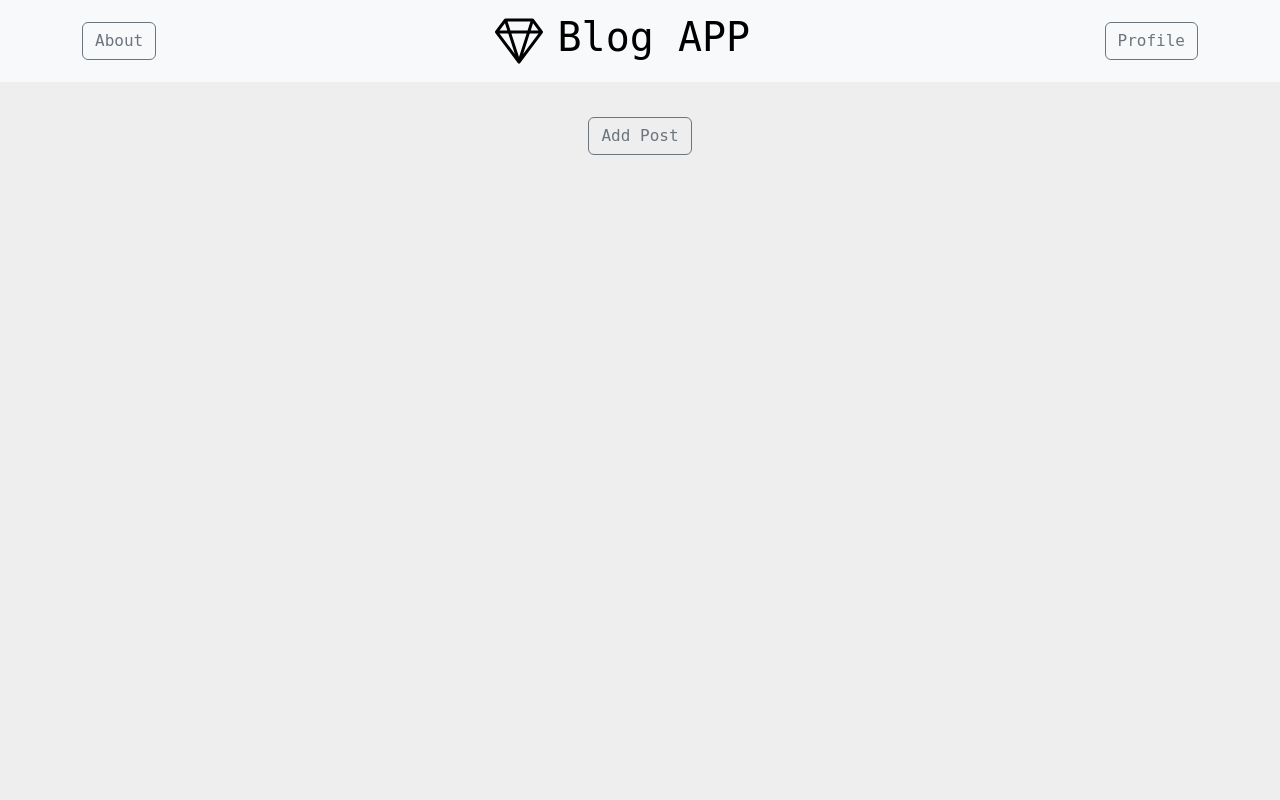
Test: AddPostModal Component Tests › should open the modal to add a post
Click the button with class "add-btn".
click(641, 136)  # box [589, 117, 692, 155]
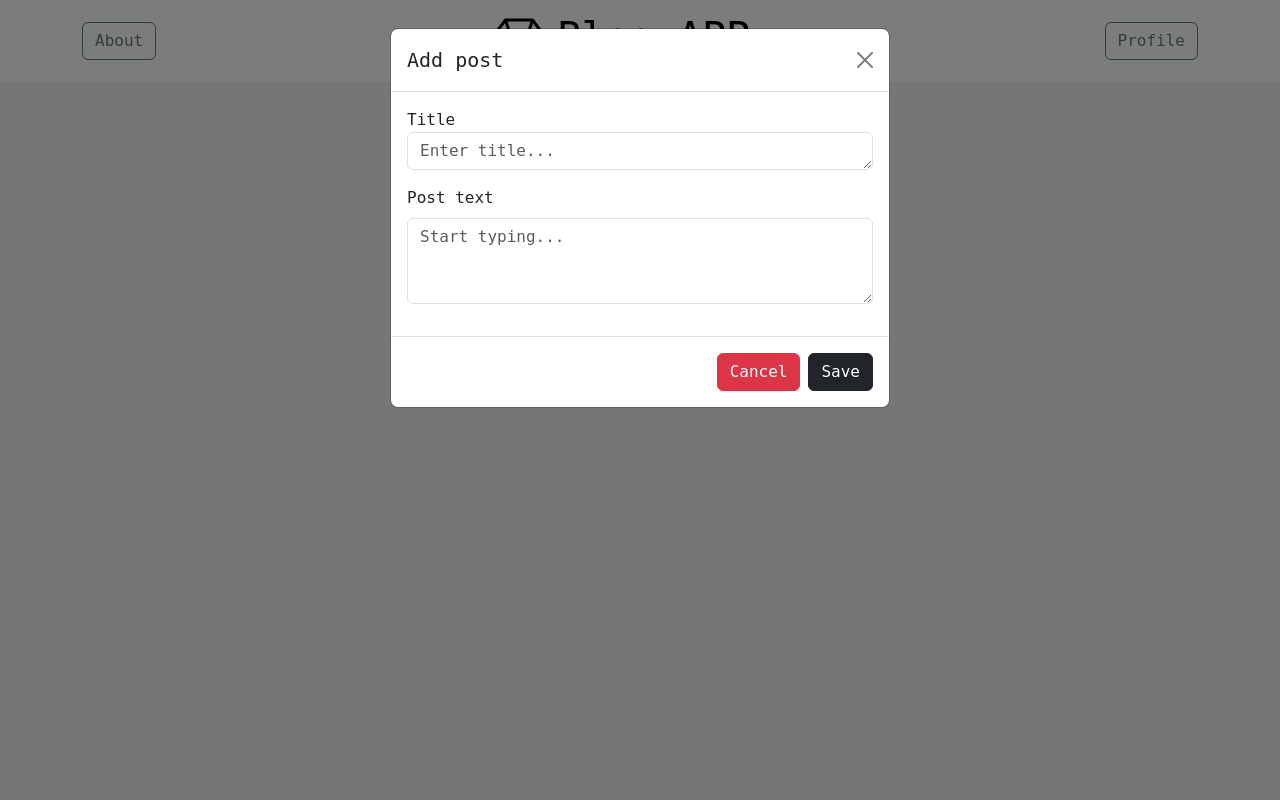
Check: the heading with id "add_post_item_modal_label" reads "Add post", box [407, 48, 503, 72]
